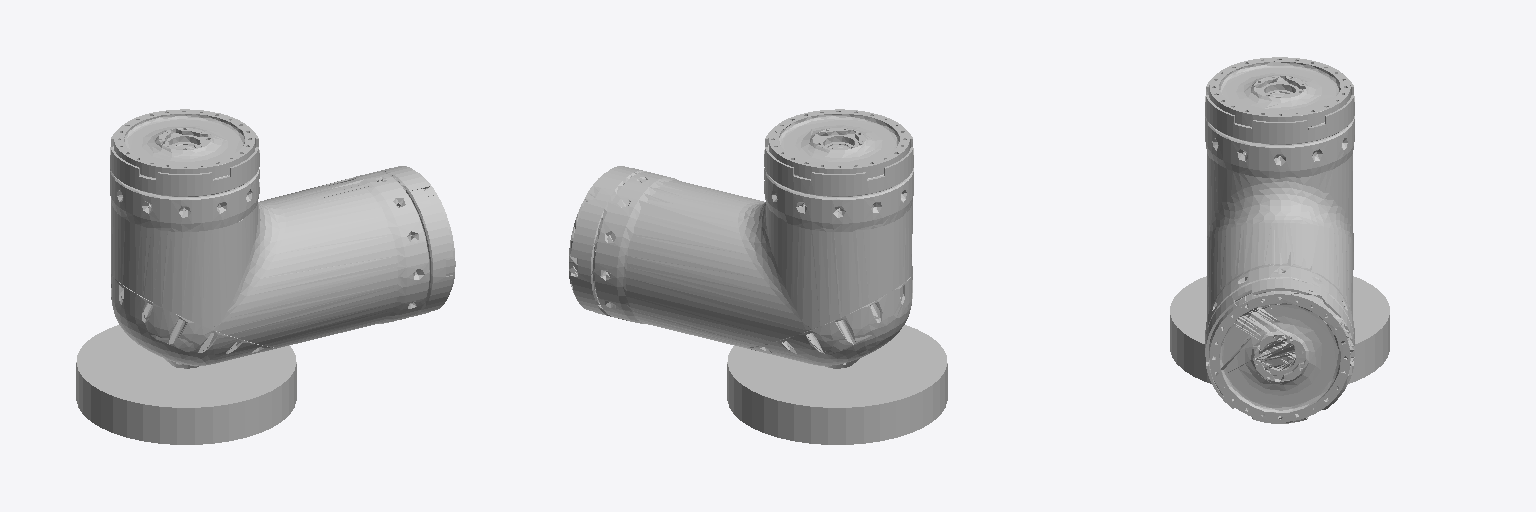
The model's file is robosim_roll_link_w_wheel.obj.
3 renders of one model, left to right at view 1: azimuth 30°, elevation 25°; view 2: azimuth 150°, elevation 25°; view 3: azimuth 270°, elevation 25°, orthographic.
Visible parts, largest first — view 1: robosim_roll_link_w_wheel.002; view 2: robosim_roll_link_w_wheel.002; view 3: robosim_roll_link_w_wheel.002.
Boxes of the visible parts, x1,y1,x2,y2 form: robosim_roll_link_w_wheel.002: [76, 109, 455, 444]; robosim_roll_link_w_wheel.002: [569, 109, 947, 444]; robosim_roll_link_w_wheel.002: [1170, 57, 1389, 423].
Size of the model in its own units: 0.2695 by 0.2103 by 0.1559.